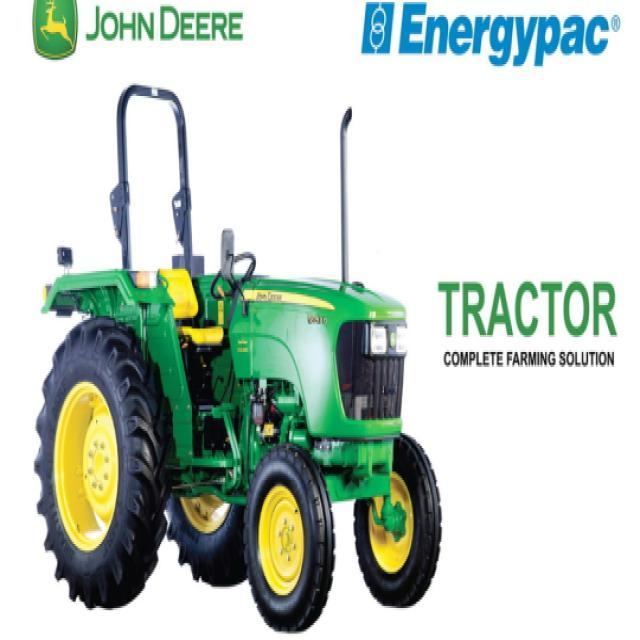Tratores - v5 YOLO V8L 2024-11-13: (32, 56, 448, 640)
